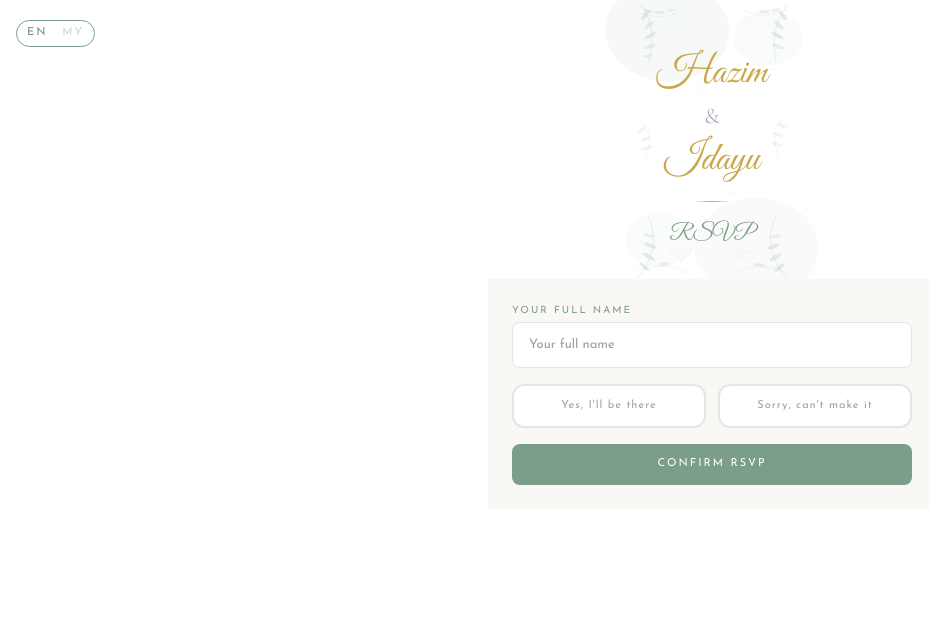
Test case: RsvpPage › hides pax when switching from attending to not-attending
Click the button "Yes, I'll be there" at (609, 406), box [512,384,706,428]
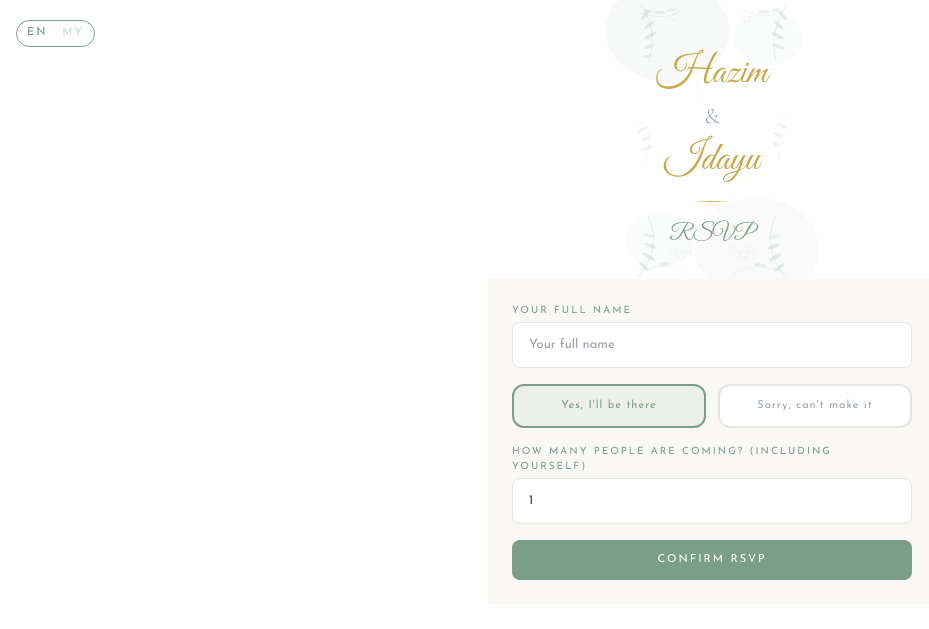
Expected: the field labelled "How many people are coming? (including yourself)" is shown, [512,478,912,524]
Click the button "Sorry, can't make it" at (815, 406), box [718,384,912,428]
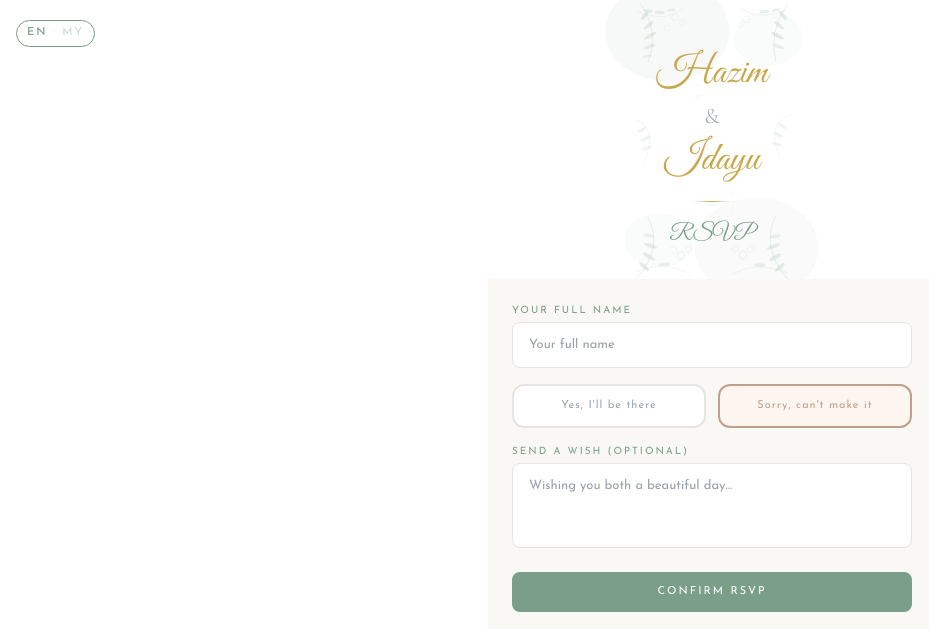
Expected: the label "How many" is gone
